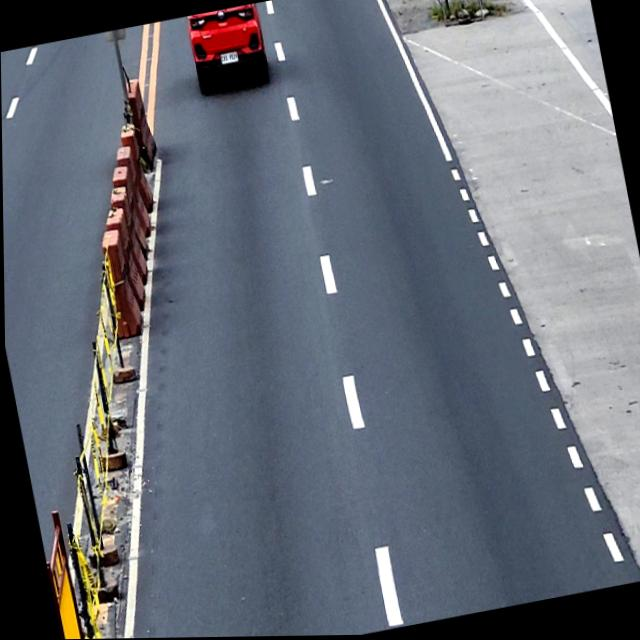Car: (185, 3, 271, 95)
License-Plate: (219, 49, 239, 65)
